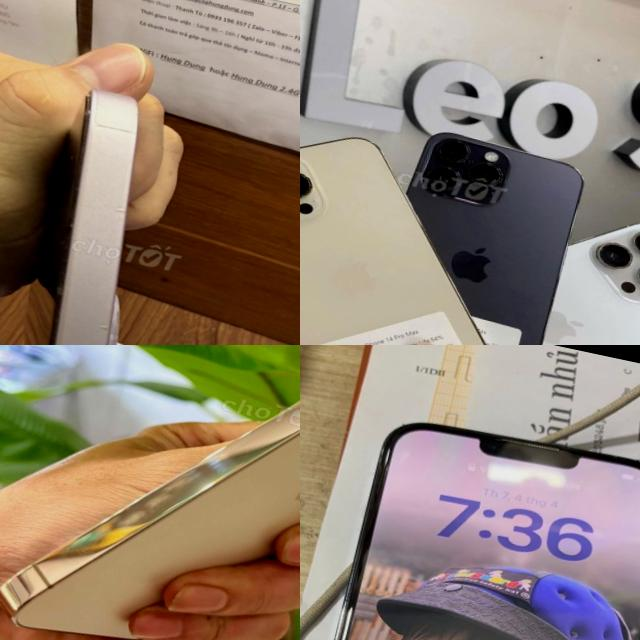gen_12_13: (300, 401, 640, 640)
gen_14: (0, 345, 300, 640), (300, 101, 556, 345), (0, 67, 202, 345)
